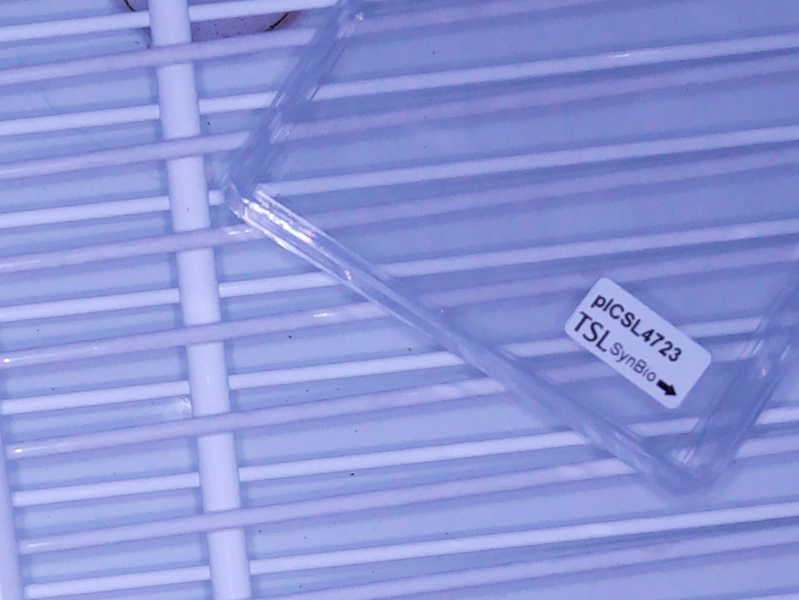plate: (224, 1, 798, 500)
